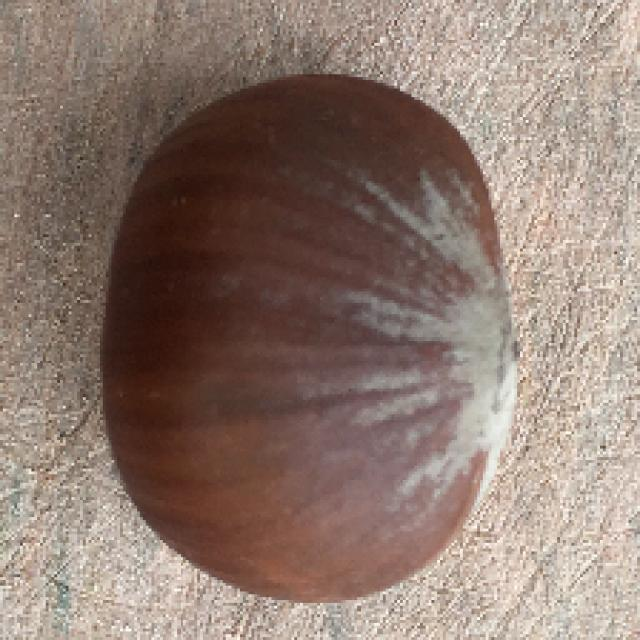qualityHazelnut: (72, 66, 557, 622)
